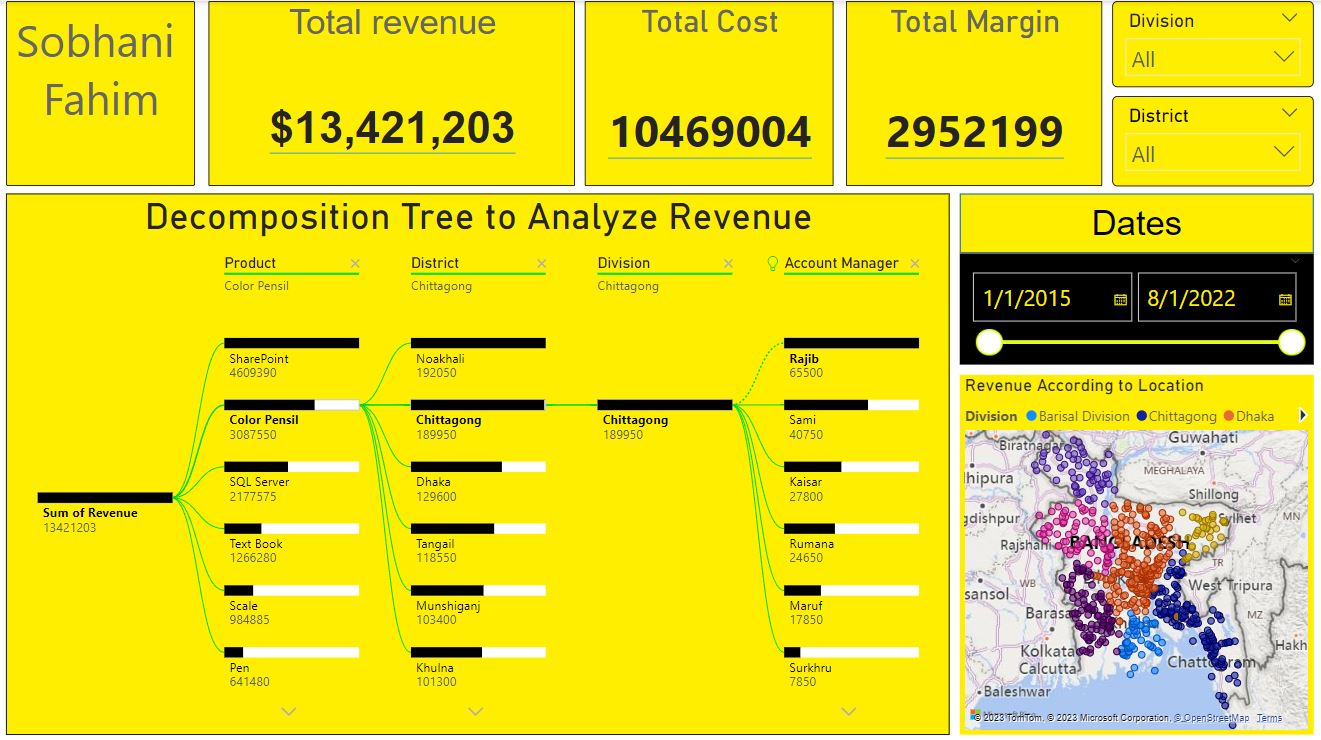

What the dashboard file says about the page in this screenshot:
{"tool":"powerbi","page":{"name":"Page 2","canvas":[1280,720],"ordinal":1},"visuals":[{"type":"textbox","box":[9.6,0,182.1,178.5],"z":0},{"type":"textbox","title":"Total revenue","box":[205,0,353.4,178.5],"z":1000},{"type":"textbox","title":"Total Cost","box":[568,0,240,178.5],"z":2000},{"type":"textbox","title":"Total Margin","box":[820.1,0,247.2,178.5],"z":3000},{"type":"slicer","fields":{"Values":["Sheet3.Division"]},"box":[1077,0,194.2,83.2],"z":4000},{"type":"slicer","title":"District","fields":{"Values":["Sheet3.District"]},"box":[1077,91.7,194.2,86.8],"z":5000},{"type":"shape","box":[929.6,185.5,341.3,57.9],"z":5001},{"type":"slicer","fields":{"Values":["Sheet1.Date"]},"box":[929.6,243.4,341.3,107.3],"z":5002},{"type":"map","title":"Revenue According to Location","fields":{"Y":["Postal.Lat"],"X":["Postal.Long"],"Series":["Sheet3.Division"]},"box":[929.8,360.6,341.3,347.3],"z":5003},{"type":"decompositionTreeVisual","title":"Decomposition Tree to Analyze Revenue","fields":{"Analyze":["Sheet1.Revenue"],"ExplainBy":["Sheet1.Product","Postal.District","Sheet3.Division","Customer.Account Manager"]},"box":[9.6,185.7,910.6,522.2],"z":5004}]}

Visuals, with their boxes in screenshot pixels (x1, y1, x2, y2), scaled from the page's 1280x720 canvas onto the 1321x740 screenshot:
textbox: x1=10, y1=0, x2=198, y2=183
"Total revenue" textbox: x1=212, y1=0, x2=576, y2=183
"Total Cost" textbox: x1=586, y1=0, x2=834, y2=183
"Total Margin" textbox: x1=846, y1=0, x2=1101, y2=183
slicer - Sheet3.Division: x1=1111, y1=0, x2=1312, y2=86
"District" slicer: x1=1111, y1=94, x2=1312, y2=183
shape: x1=959, y1=191, x2=1312, y2=250
slicer - Sheet1.Date: x1=959, y1=250, x2=1312, y2=360
"Revenue According to Location" map: x1=960, y1=371, x2=1312, y2=728
"Decomposition Tree to Analyze Revenue" decompositionTreeVisual: x1=10, y1=191, x2=950, y2=728
